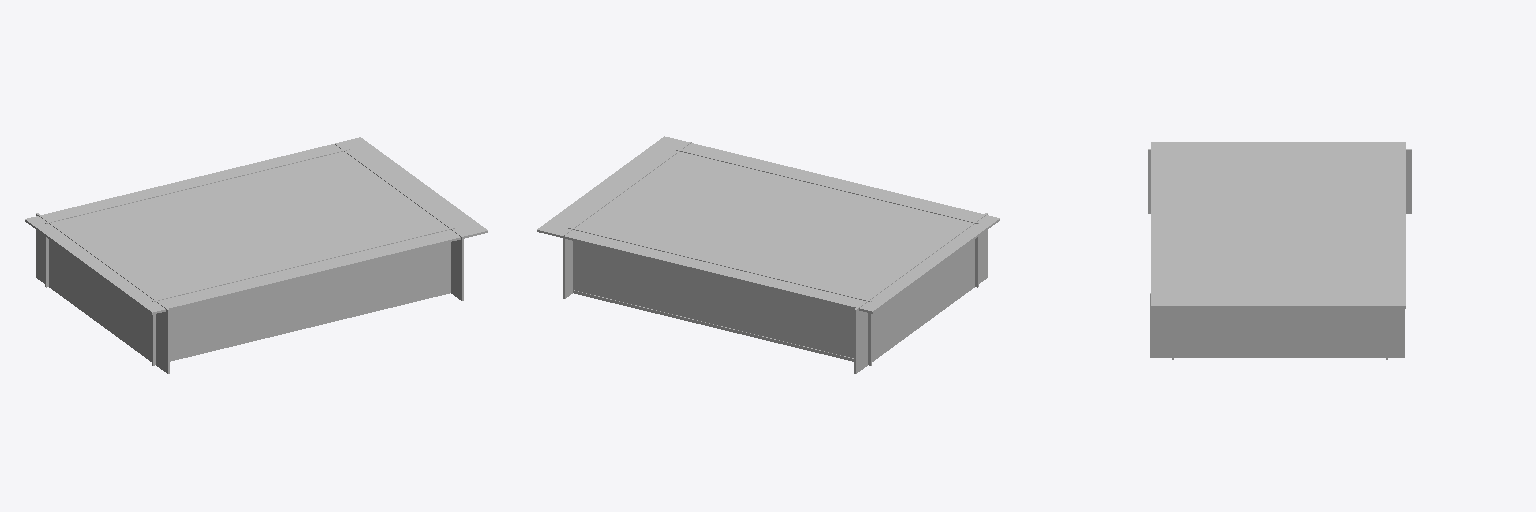
File: classroom.obj
3 views of the same model, side by side, from view 1: azimuth 30°, elevation 25°; view 2: azimuth 150°, elevation 25°; view 3: azimuth 270°, elevation 25° (orthographic).
Parts seen in each view (by area): view 1: Cube.011, Cube.001, Cube.003, Cube.002, Cube.004; view 2: Cube.011, Cube.004, Cube.003, Cube.002, Cube.001; view 3: Cube.011, Cube.002, Cube.003.
Boxes of the visible parts, x1=… form: Cube.011: x1=25, y1=137, x2=487, y2=314; Cube.001: x1=152, y1=227, x2=456, y2=365; Cube.003: x1=36, y1=213, x2=169, y2=373; Cube.002: x1=335, y1=143, x2=463, y2=300; Cube.004: x1=45, y1=148, x2=349, y2=287; Cube.011: x1=537, y1=136, x2=999, y2=313; Cube.004: x1=567, y1=227, x2=871, y2=365; Cube.003: x1=854, y1=213, x2=987, y2=373; Cube.002: x1=563, y1=142, x2=691, y2=298; Cube.001: x1=674, y1=149, x2=978, y2=287; Cube.011: x1=1151, y1=142, x2=1405, y2=308; Cube.002: x1=1150, y1=293, x2=1404, y2=357; Cube.003: x1=1148, y1=149, x2=1411, y2=213.
Bounding box in the file's own units: 32.72 × 5.98 × 22.22.